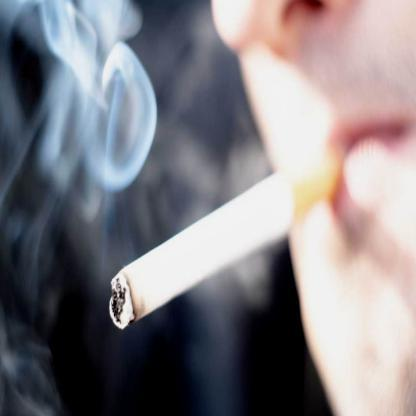cigarette: (108, 156, 343, 335)
smoke: (22, 0, 154, 199), (0, 324, 55, 415)
